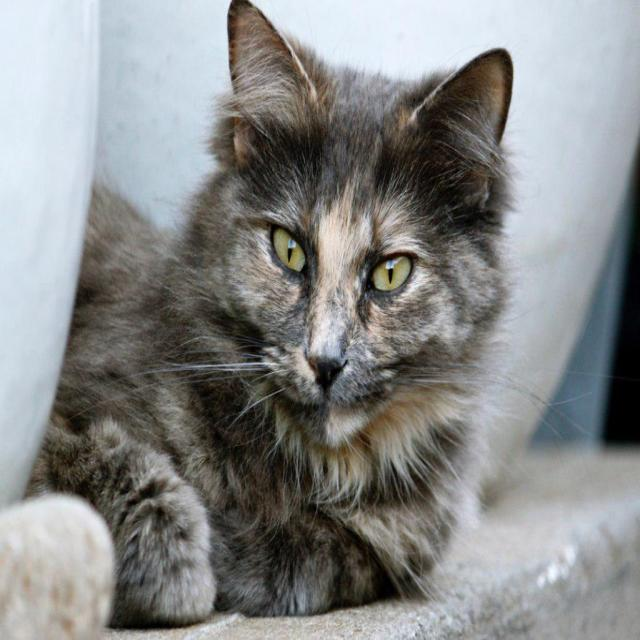Cat: (22, 0, 596, 627)
